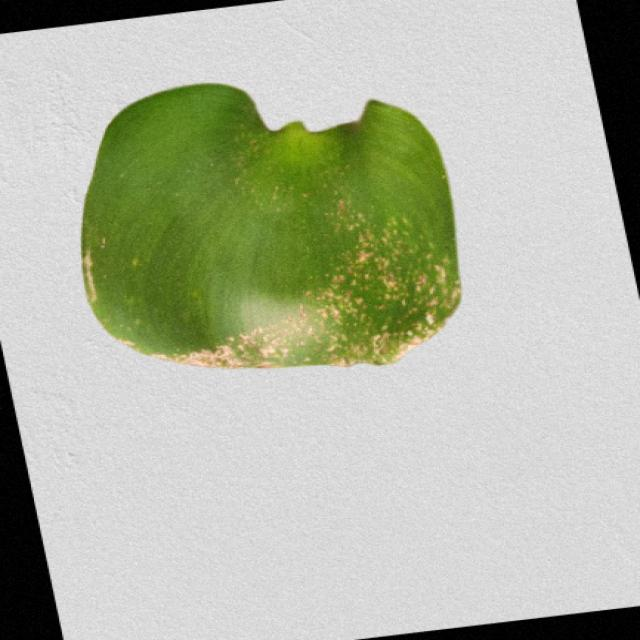daun berpenyakit bercak: (82, 84, 460, 368)
